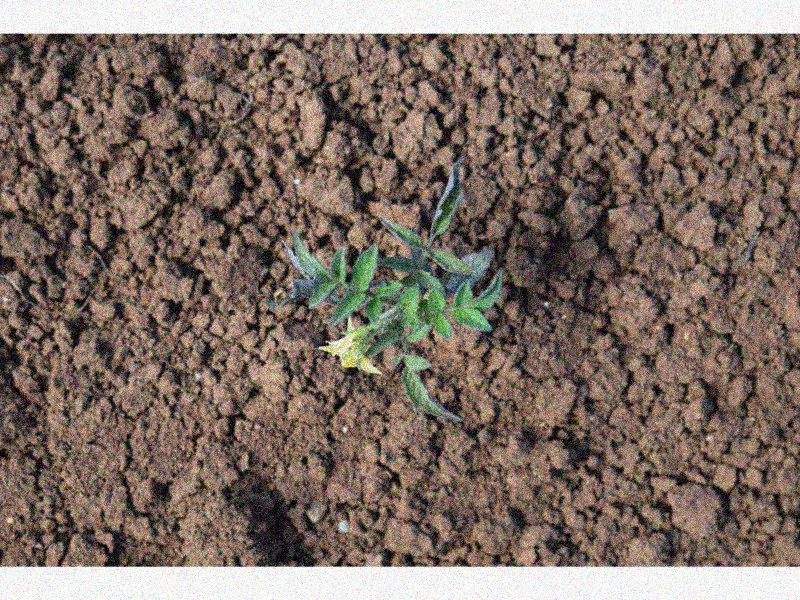tomato: (270, 161, 504, 421)
